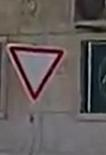cedencia de passagem: (2, 34, 69, 100)
